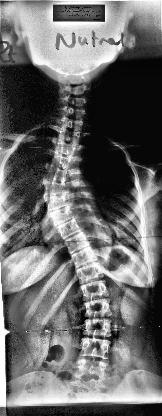Vertebrae: (80, 338, 111, 358), (76, 358, 107, 378), (85, 300, 113, 320), (72, 248, 100, 268), (82, 280, 108, 300), (65, 234, 91, 254), (56, 220, 84, 238), (86, 318, 113, 336), (50, 208, 76, 226), (77, 266, 105, 282), (54, 154, 76, 172), (57, 142, 79, 160), (60, 128, 84, 144), (46, 196, 72, 208), (46, 182, 72, 194), (49, 168, 71, 182), (64, 118, 86, 130)
